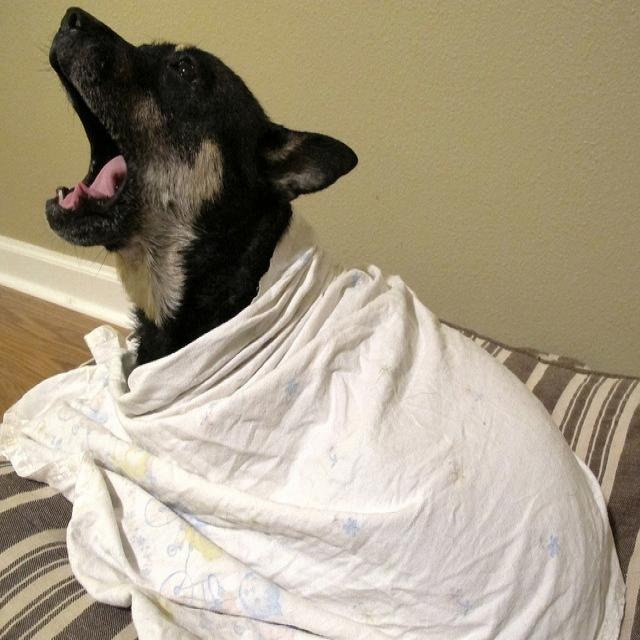dog: (39, 1, 364, 367)
